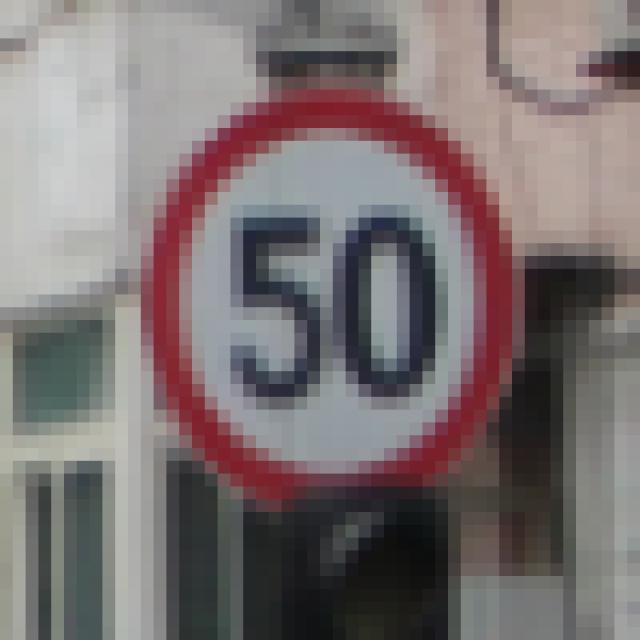Limite-50: (139, 80, 525, 520)
